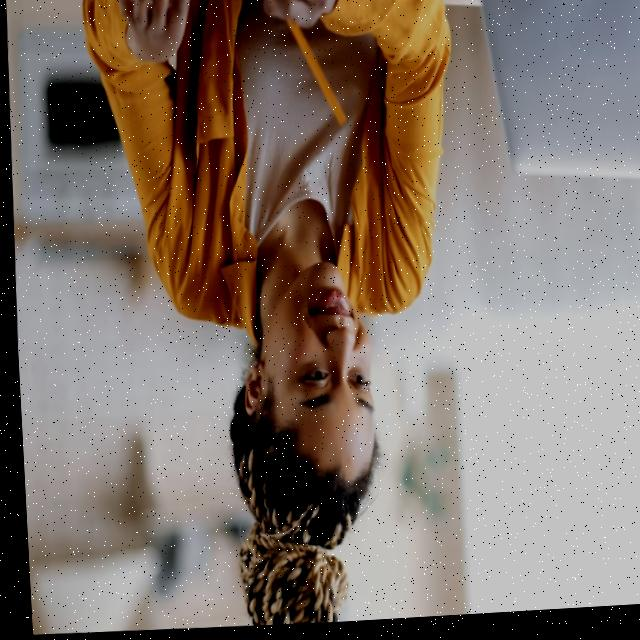studying-person: (8, 0, 464, 640)
